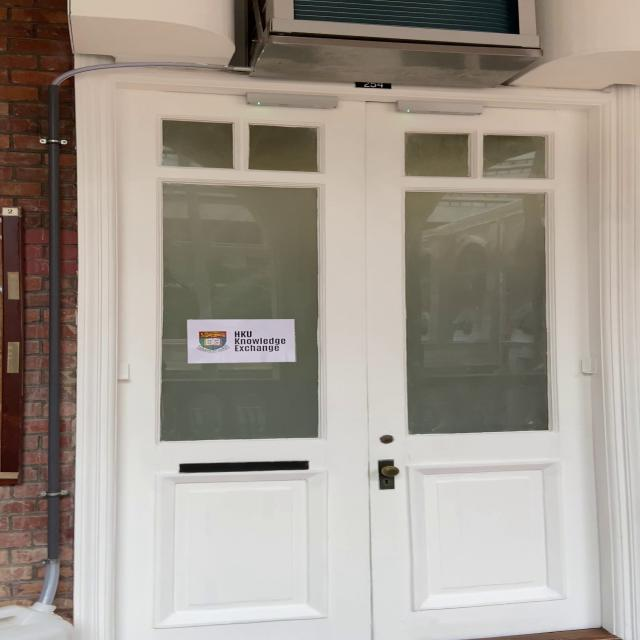room254: (353, 79, 394, 90)
